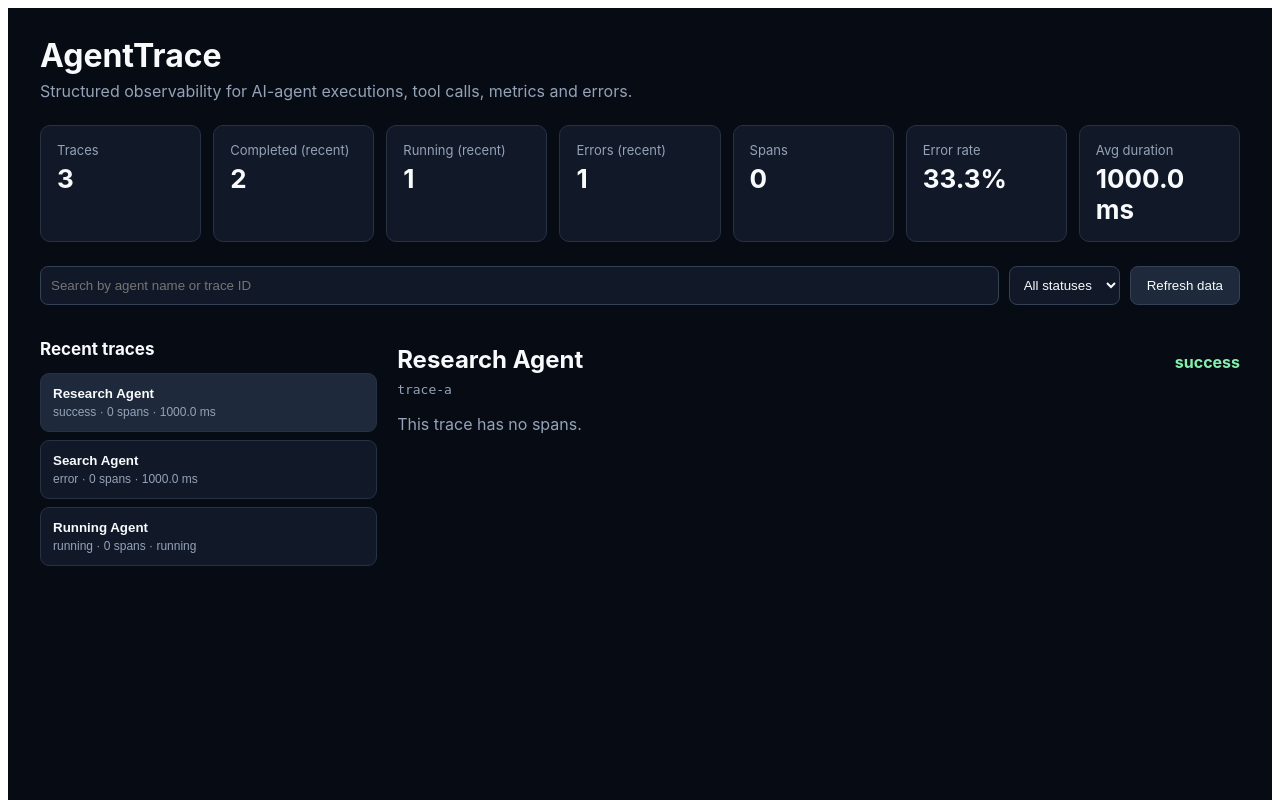
Test: DashboardPage interactions › refreshes metrics and shows an empty state after the API returns no traces
Expected: the button "Research Agent success · 0 spans · 1000.0 ms" is shown, [40,373,377,432]
Click the button "Refresh data" at (1185, 286), box [1130,266,1240,305]
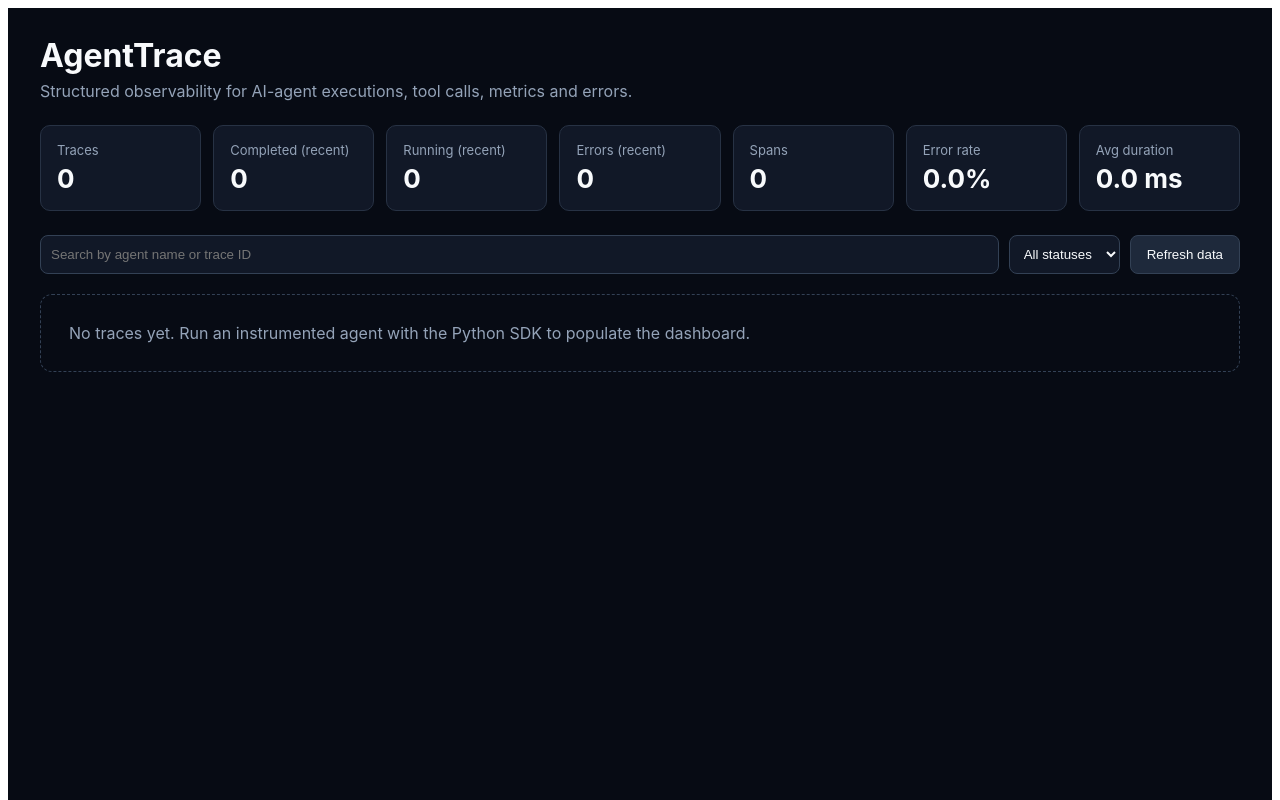
Expected: the text "No traces yet" is shown, [69,323,750,343]
